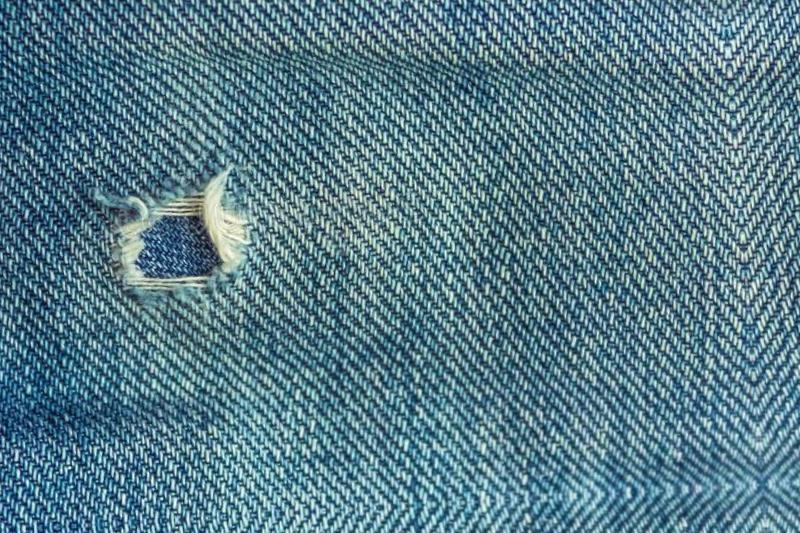hole: (101, 187, 260, 306)
